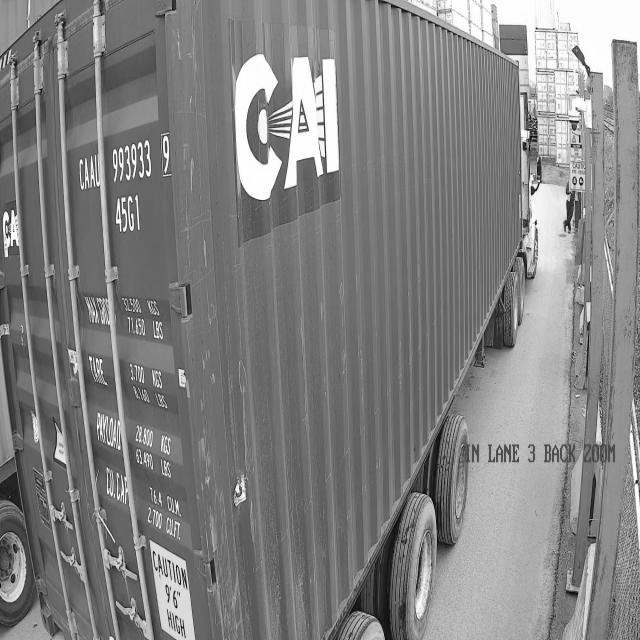container_company_logo: (211, 7, 394, 270), (0, 201, 18, 255)
container_number: (79, 139, 204, 630)
truck_with_container: (0, 0, 536, 639)
